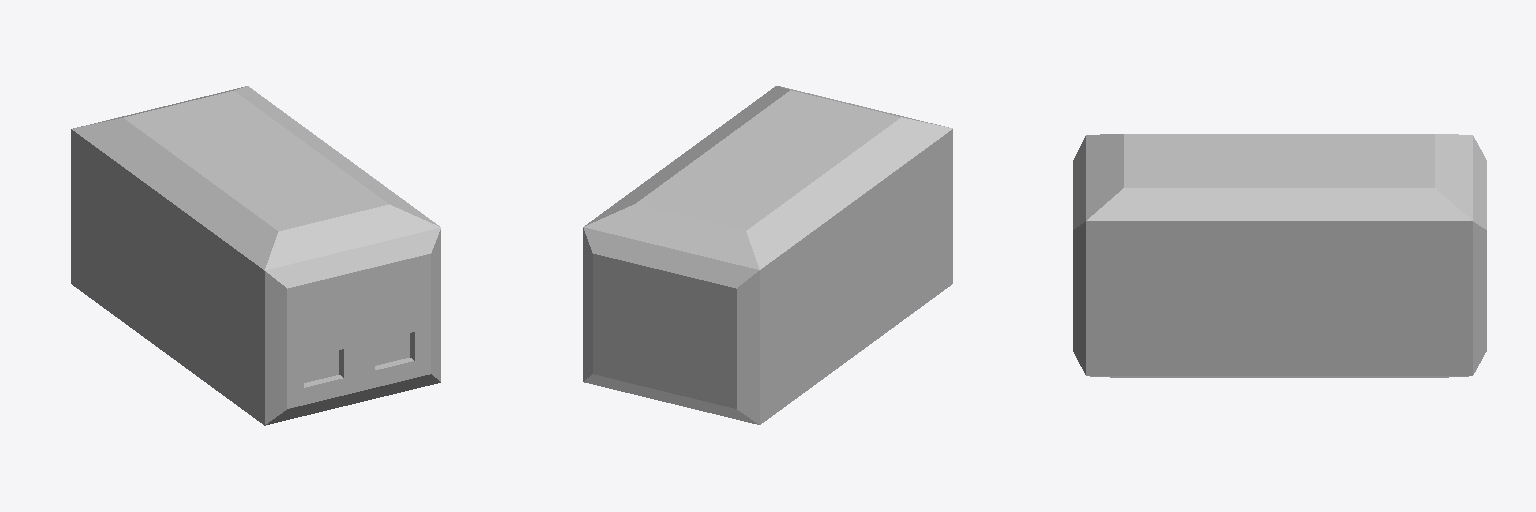
Rendered from Freighter.obj.
3 views of the same model, side by side, from view 1: azimuth 30°, elevation 25°; view 2: azimuth 150°, elevation 25°; view 3: azimuth 270°, elevation 25° (orthographic).
Parts seen in each view (by area): view 1: Box001; view 2: Box001; view 3: Box001.
Part boxes in pixels (x1,y1,x2,y2): Box001: (71,86,440,425); Box001: (583,86,952,424); Box001: (1073,134,1486,377).
Size of the model in its own units: 4.66 by 4.79 by 9.44.